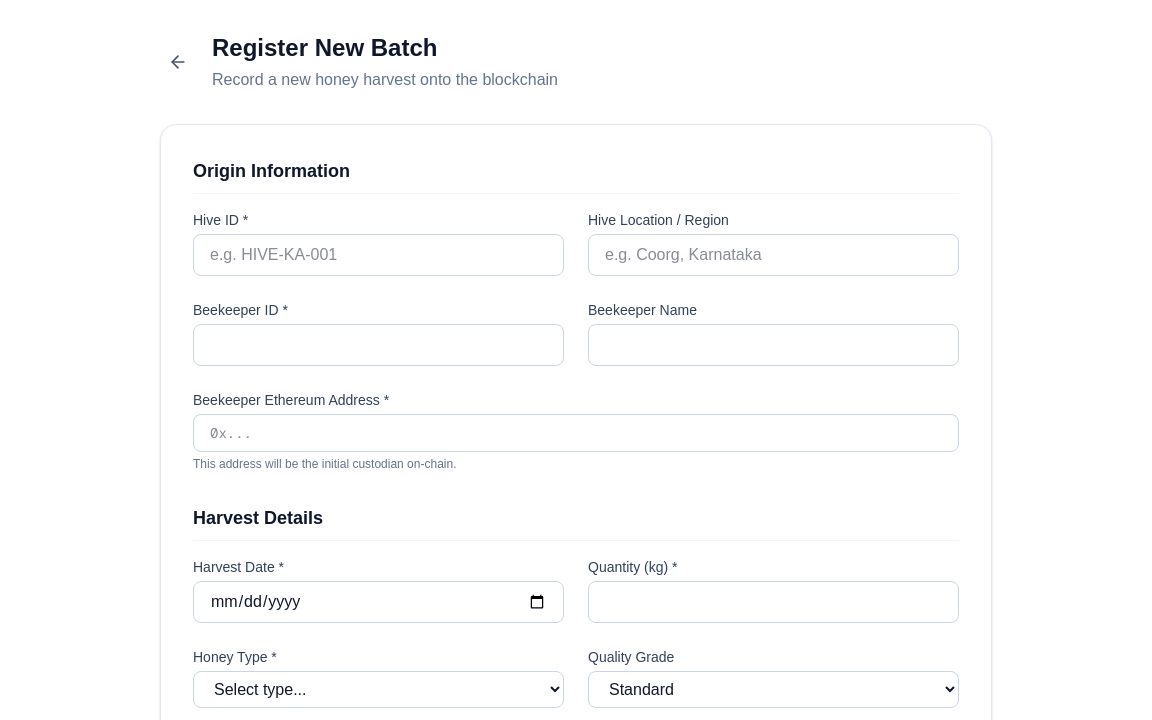
Test: NewBatchPage › displays API errors
Note: Fill required fields
In the field labelled "Hive ID *": [378, 255] box 193,234 -> 564,276, type "HIVE-001"
In the field labelled "Beekeeper ID *": [378, 345] box 193,324 -> 564,366, type "BK-001"
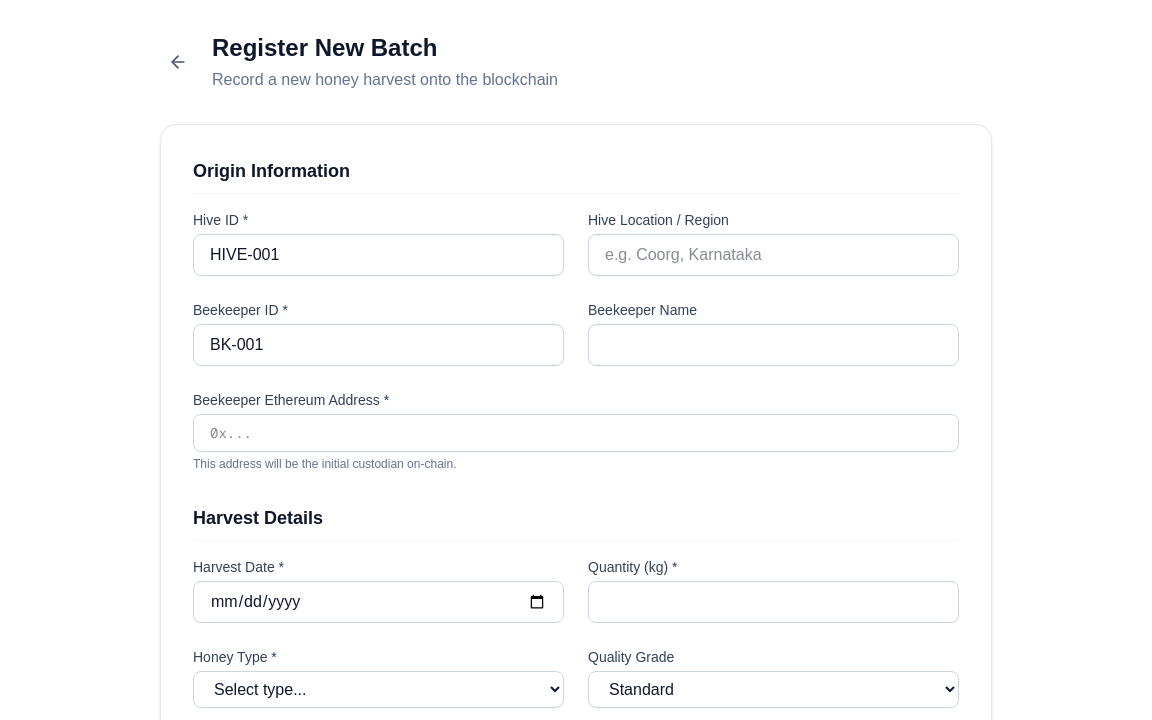
In the field labelled "Beekeeper Ethereum Address *": [576, 433] box 193,414 -> 959,452, type "0x123"
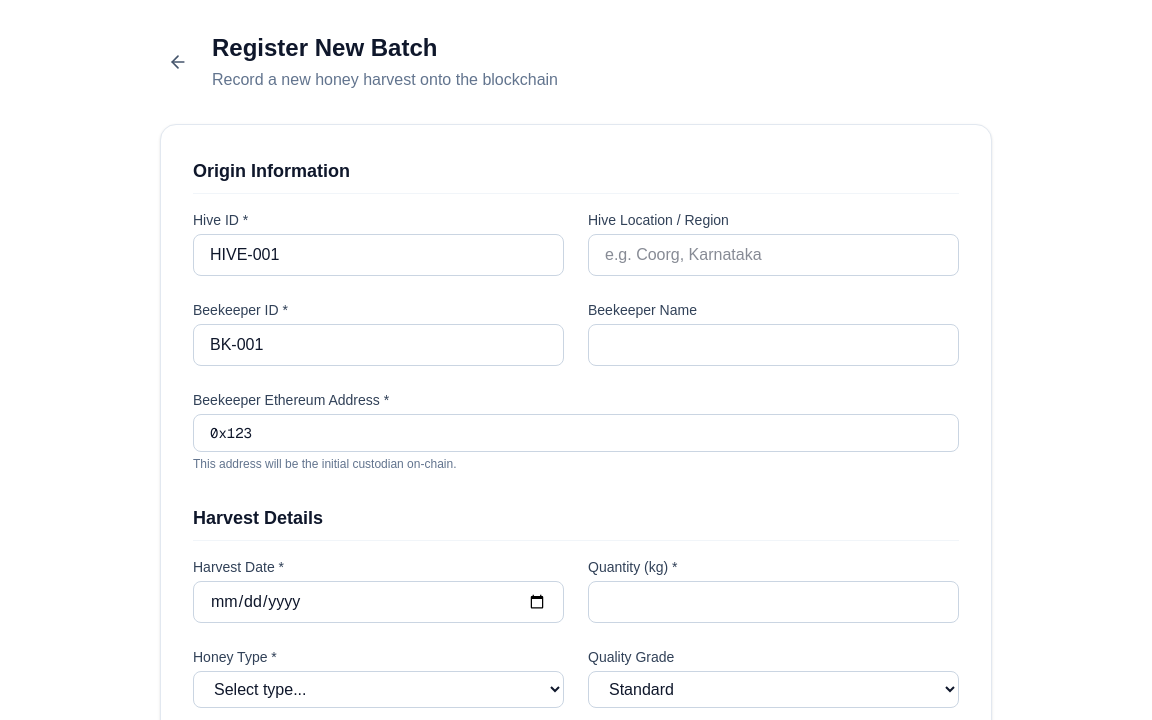
In the date field labelled "Harvest Date *": [378, 602] box 193,581 -> 564,623, type "2024-05-01"
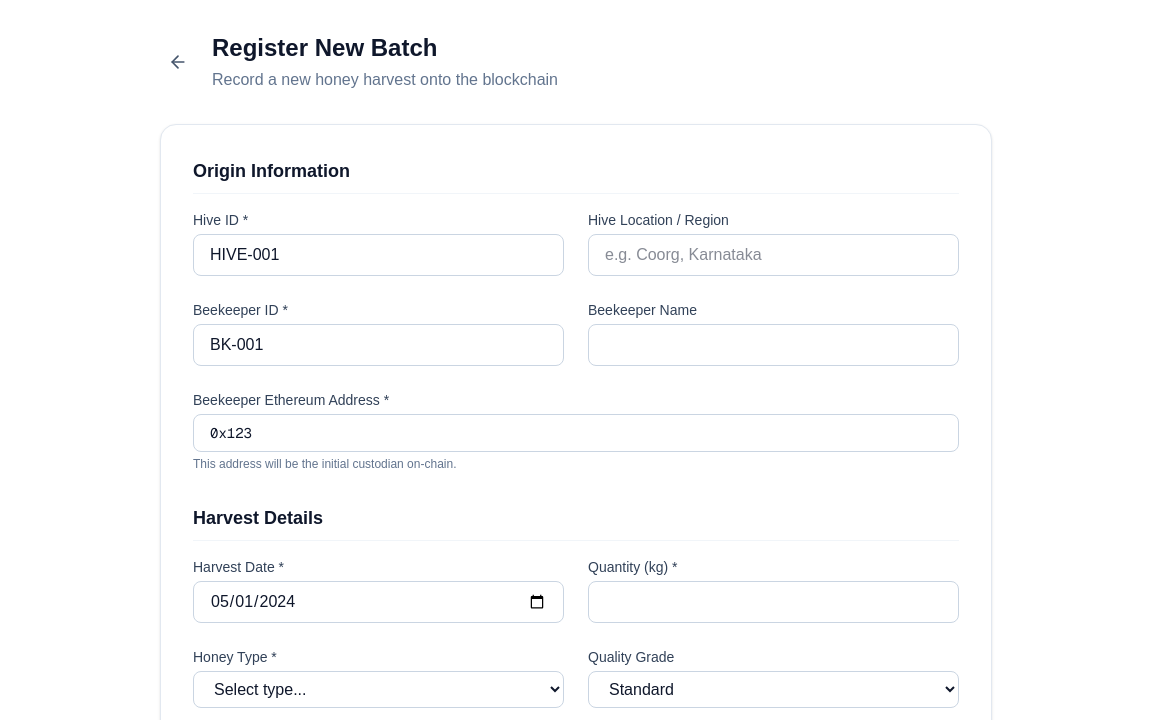
In the number field labelled "Quantity (kg) *": [774, 602] box 588,581 -> 959,623, type "50.5"
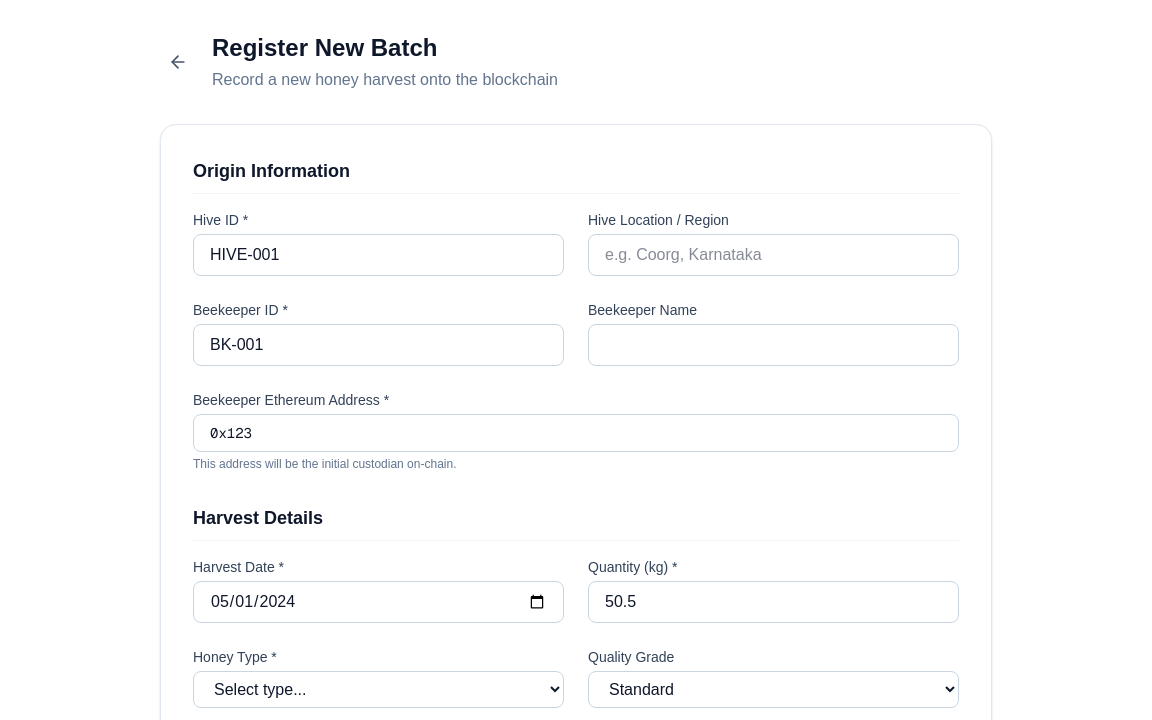
Select "Multiflora" in the dropdown labelled "Honey Type *": [378, 690] box 193,671 -> 564,708
(page scrolled)
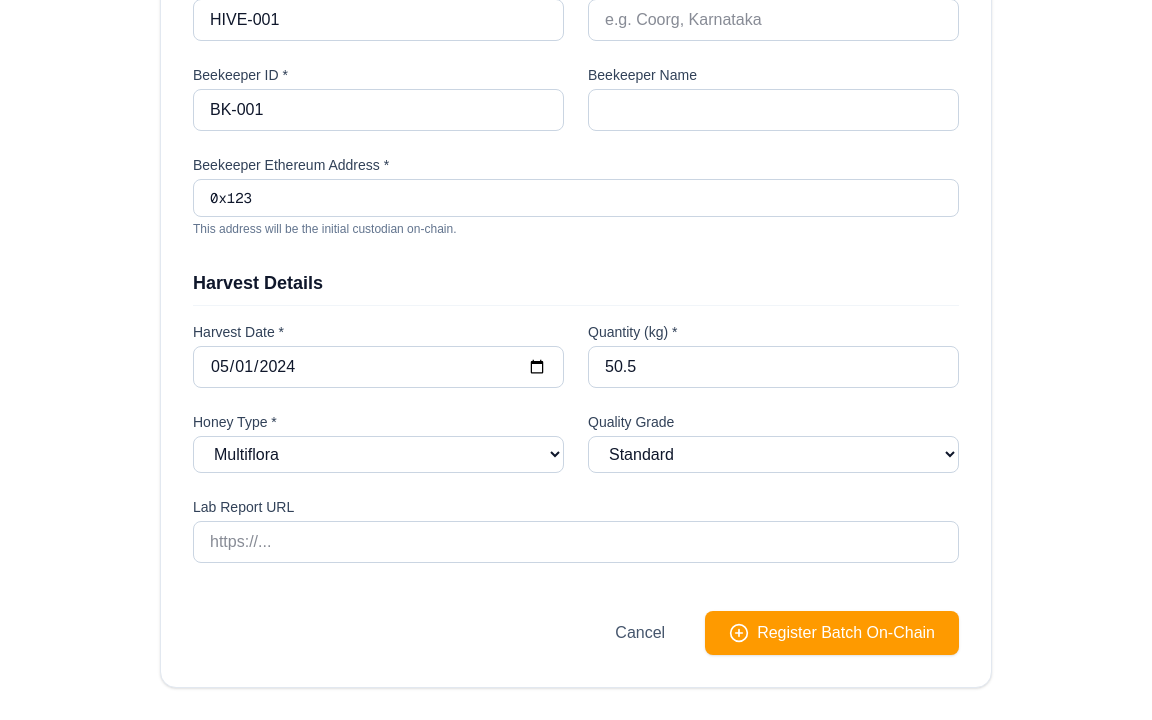
Click the button "Register Batch On-Chain": [832, 633] box 705,611 -> 959,655
(page scrolled)
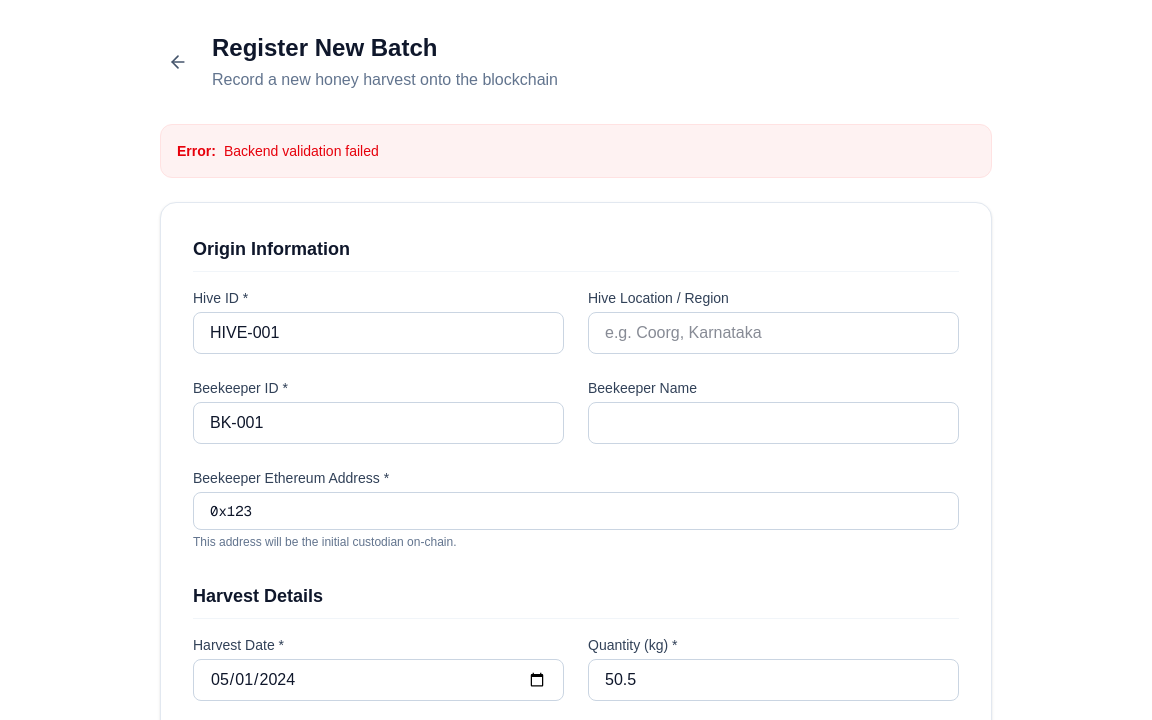
Result: the text "Error: Backend validation failed" is shown at 160,124 -> 992,178
